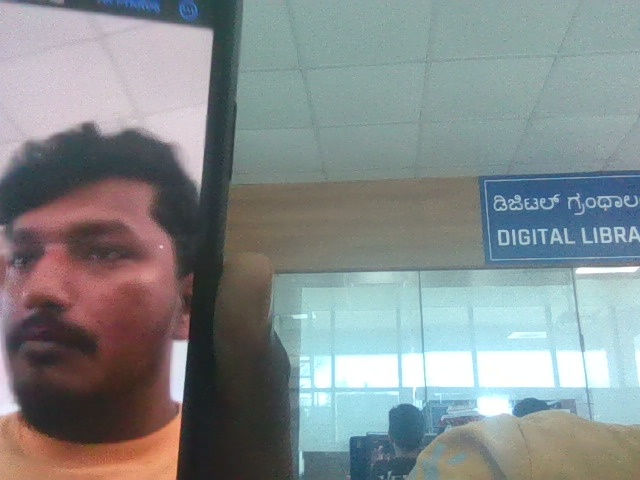fake: (0, 88, 241, 428)
